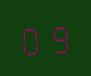nine: (45, 20, 70, 54)
zero: (19, 21, 44, 56)
